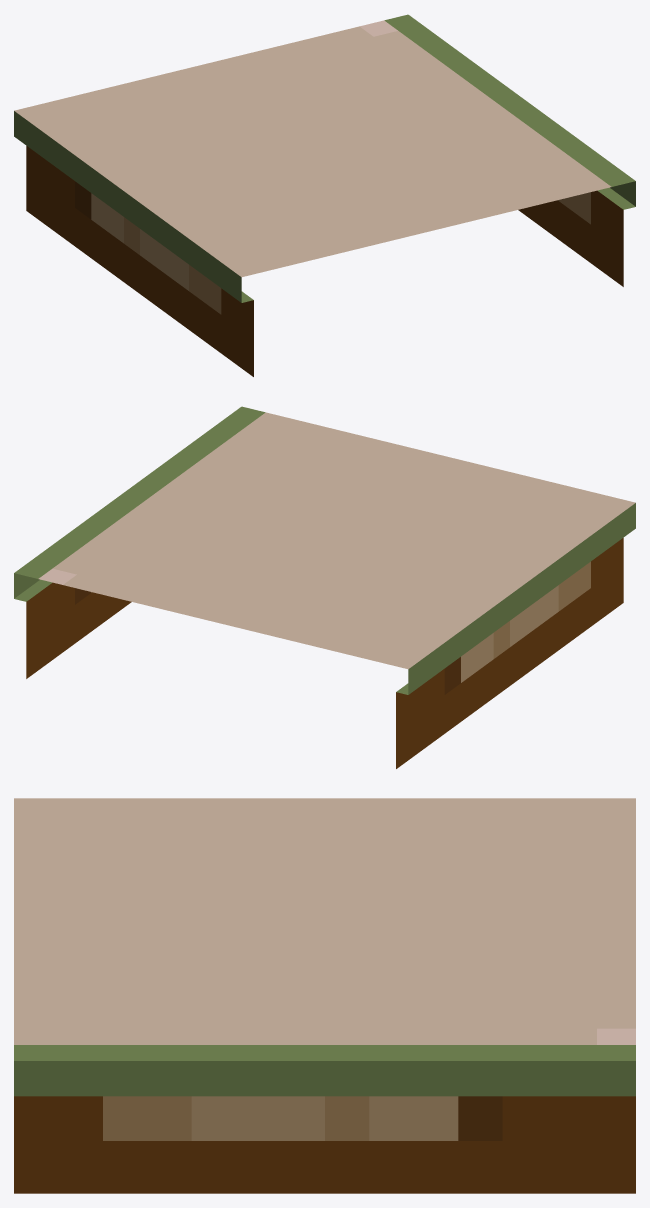
The model's file is counter_518x16.gltf.
The picture shows the model from 3 angles, top to bottom: view 1: azimuth 30°, elevation 25°; view 2: azimuth 150°, elevation 25°; view 3: azimuth 270°, elevation 25°; orthographic projection. The views are drawn at different scales.
Visible parts, largest first — view 1: Counter_518x16; view 2: Counter_518x16; view 3: Counter_518x16.
Part boxes in pixels (<box>): Counter_518x16: <box>14,14,635,376</box>; Counter_518x16: <box>14,406,635,768</box>; Counter_518x16: <box>14,798,635,1193</box>.
Size of the model in its own units: 2.07 by 0.5175 by 2.07.
1 material, 1 textured.
